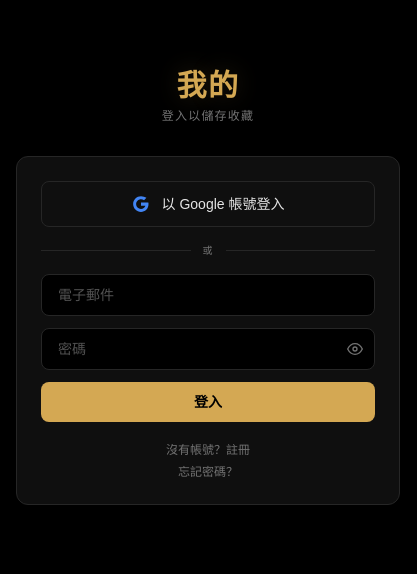
register mode › shows a strength bar while typing
The image size is (417, 574).
Click the button "沒有帳號？註冊" at (208, 450), box [166,442,250,458]
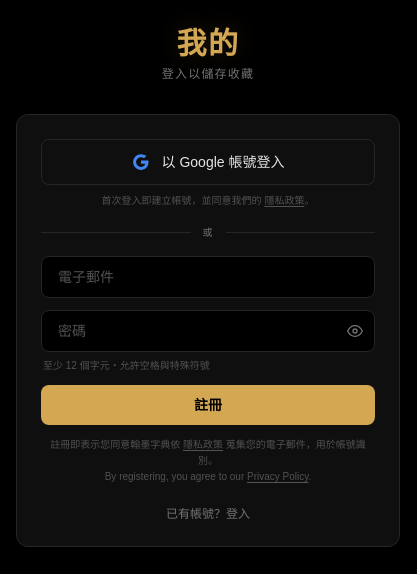
Type "abc" into the password field with placeholder "密碼" at (208, 331), box [41,310,375,352]
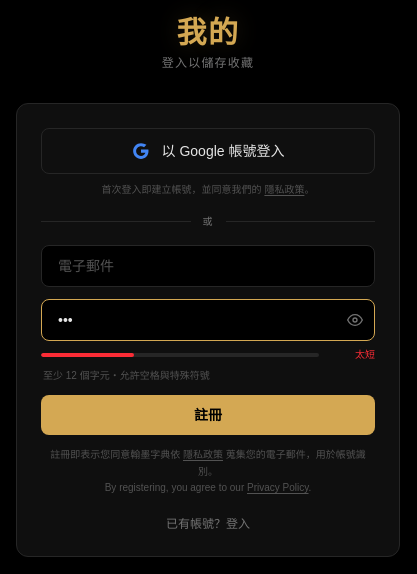
Check: the text "太短" is shown, box [355,349,375,360]
Type "defghijk" into the password field with placeholder "密碼" at (208, 320), box [41,299,375,341]
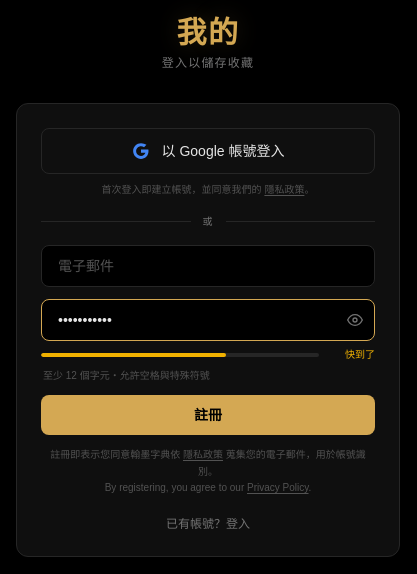
Check: the text "快到了" is shown, box [345,349,375,360]
Type "lmnop" into the password field with placeholder "密碼" at (208, 320), box [41,299,375,341]
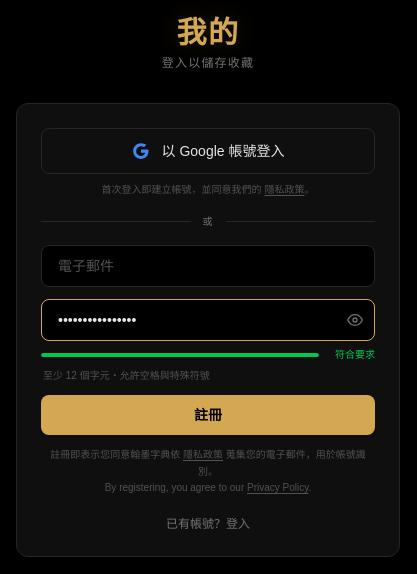
Check: the text "符合要求" is shown, box [335,349,375,360]
